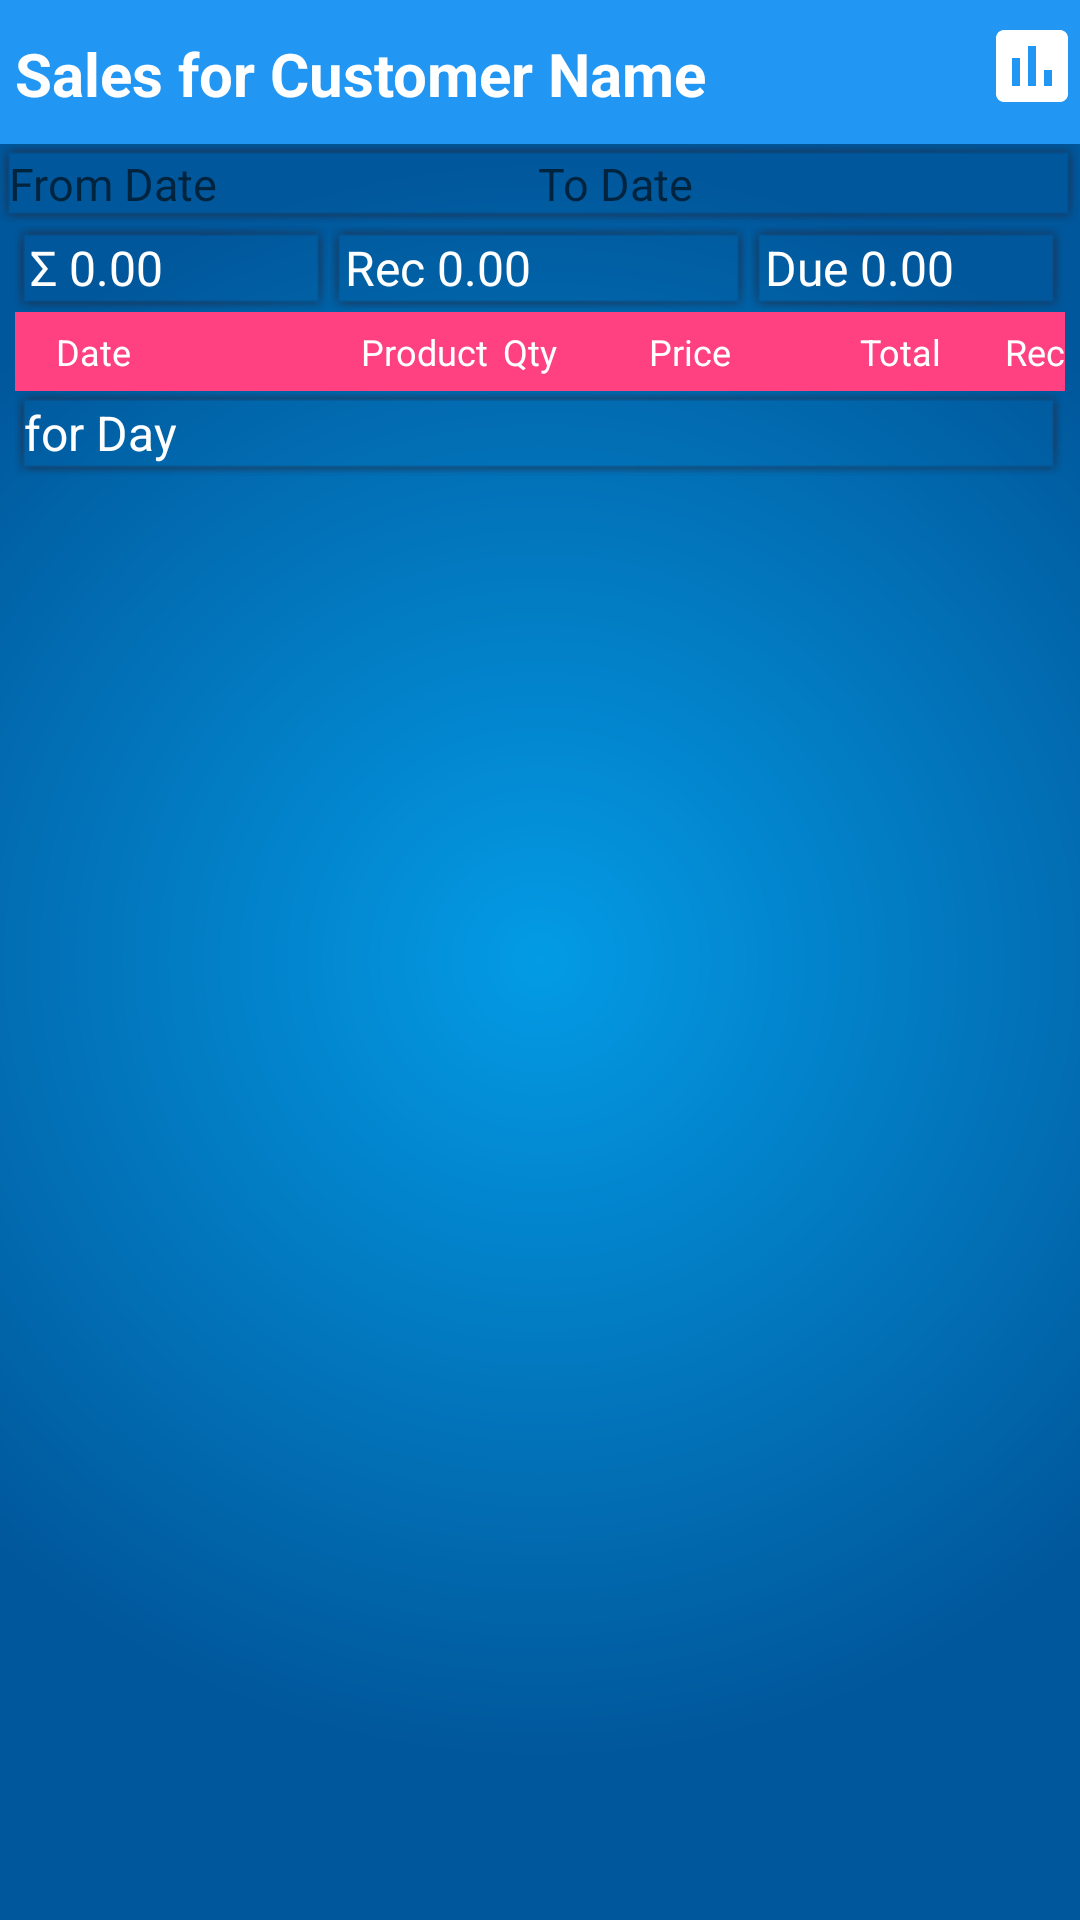

Icon bounding boxes for this 1080 × 1920 phone screenshot, format bbox(x1, y1, x2, y2):
poll: bbox(996, 30, 1068, 102)
